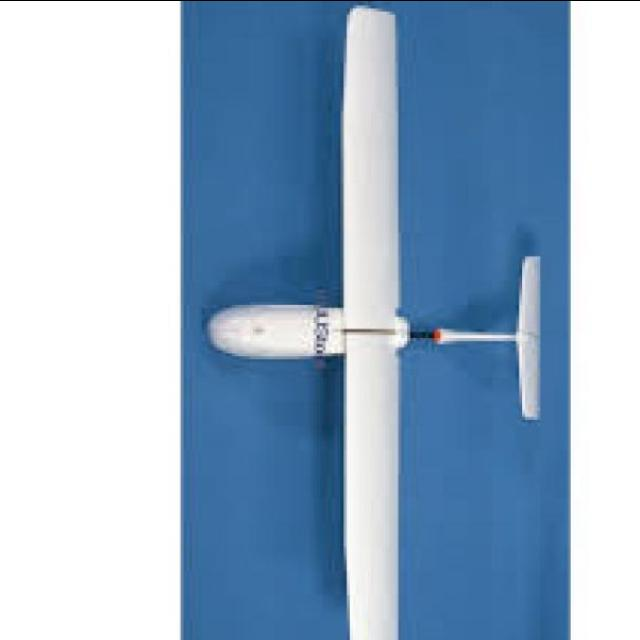plane: (200, 3, 548, 640)
